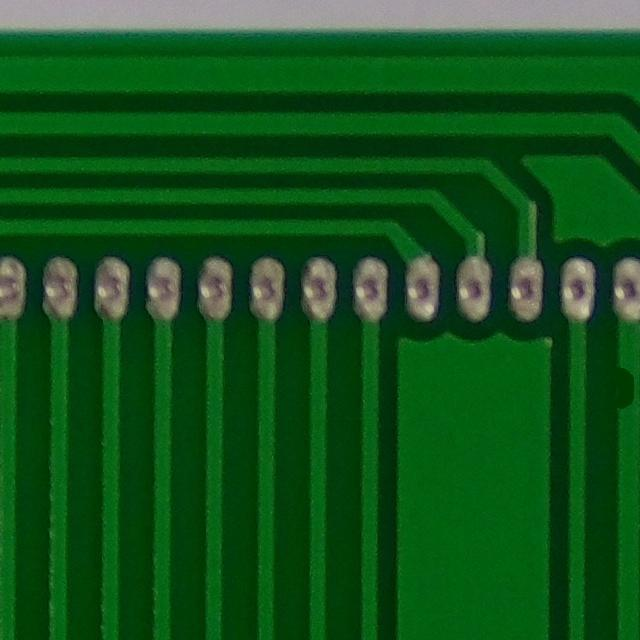mouse_bite: (607, 352, 640, 428)
